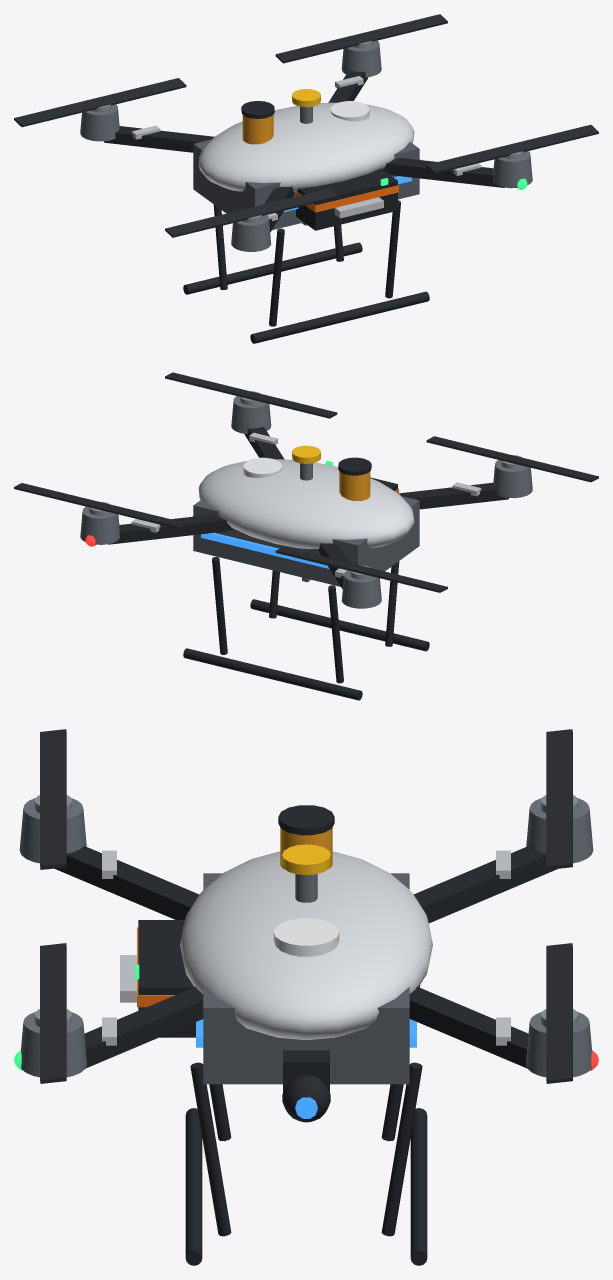
File: lmp_drone_parts.glb
3 views of the same model, one above another, from view 1: azimuth 30°, elevation 25°; view 2: azimuth 150°, elevation 25°; view 3: azimuth 270°, elevation 25° (orthographic). The views are drawn at different scales.
Visible parts, largest first — view 1: shell__M_droneShell, gear__M_black, body__M_droneBody, battery__M_black, rotor1__M_prop, rotor2__M_prop, rotor3__M_prop, rotor4__M_prop, arm1__M_black, arm2__M_black, motor4__M_steel, motor2__M_steel (+10 smaller); view 2: shell__M_droneShell, gear__M_black, body__M_droneBody, arm3__M_black, arm4__M_black, rotor4__M_prop, rotor2__M_prop, rotor1__M_prop, rotor3__M_prop, motor2__M_steel, motor4__M_steel, motor3__M_steel (+8 smaller); view 3: shell__M_droneShell, gear__M_black, body__M_droneBody, arm2__M_black, arm4__M_black, arm1__M_black, arm3__M_black, battery__M_black, rotor4__M_prop, rotor2__M_prop, rotor3__M_prop, rotor1__M_prop (+10 smaller).
Part boxes in pixels (<box>): shell__M_droneShell: <box>198,102,414,192</box>; gear__M_black: <box>183,200,429,343</box>; body__M_droneBody: <box>193,139,419,230</box>; battery__M_black: <box>296,168,397,230</box>; rotor1__M_prop: <box>426,124,598,173</box>; rotor2__M_prop: <box>14,78,186,127</box>; rotor3__M_prop: <box>275,14,447,63</box>; rotor4__M_prop: <box>165,188,337,237</box>; arm1__M_black: <box>383,158,504,187</box>; arm2__M_black: <box>104,126,214,152</box>; motor4__M_steel: <box>231,215,271,251</box>; motor2__M_steel: <box>80,104,119,141</box>; shell__M_droneShell: <box>198,459,414,548</box>; gear__M_black: <box>183,557,429,700</box>; body__M_droneBody: <box>193,496,419,586</box>; arm3__M_black: <box>108,514,232,544</box>; arm4__M_black: <box>398,482,508,509</box>; rotor4__M_prop: <box>426,436,598,482</box>; rotor2__M_prop: <box>275,546,447,592</box>; rotor1__M_prop: <box>165,372,337,418</box>; rotor3__M_prop: <box>14,483,186,528</box>; motor2__M_steel: <box>341,570,381,608</box>; motor4__M_steel: <box>493,460,532,498</box>; motor3__M_steel: <box>80,506,119,544</box>; shell__M_droneShell: <box>180,851,432,1040</box>; gear__M_black: <box>185,985,427,1265</box>; body__M_droneBody: <box>203,873,409,1084</box>; arm2__M_black: <box>413,846,557,923</box>; arm4__M_black: <box>54,846,199,919</box>; arm1__M_black: <box>84,986,203,1068</box>; arm3__M_black: <box>409,986,528,1068</box>; battery__M_black: <box>138,920,195,1037</box>; rotor4__M_prop: <box>40,729,66,869</box>; rotor2__M_prop: <box>546,729,572,869</box>; rotor3__M_prop: <box>546,943,572,1083</box>; rotor1__M_prop: <box>40,943,66,1083</box>.
Bounding box in the file's own units: 0.7744 × 0.352 × 0.5491.
